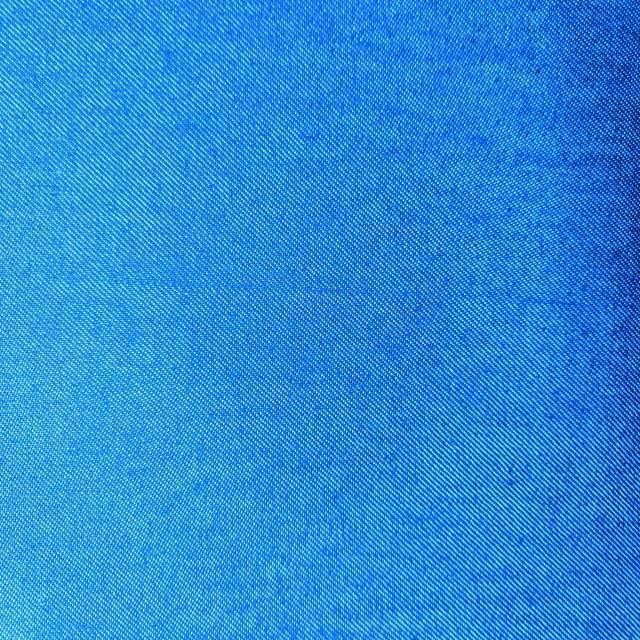Line: (42, 272, 582, 310)
